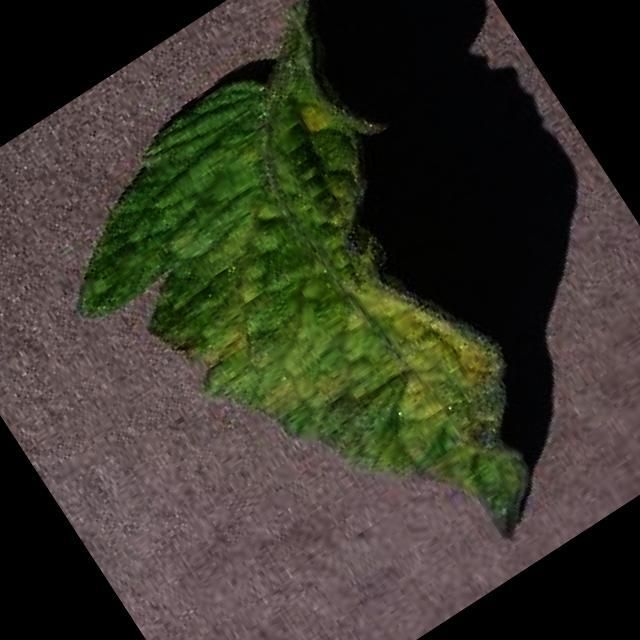Tomato mold leaf: (16, 21, 614, 640)
